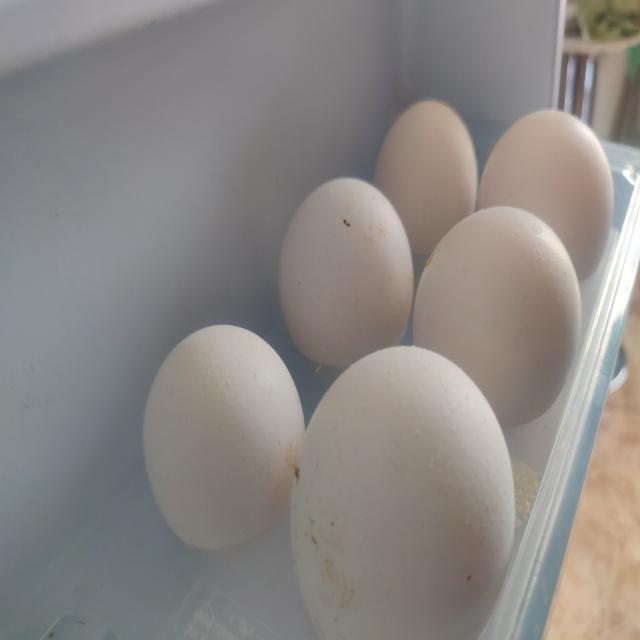Egg: (286, 344, 522, 640), (403, 203, 583, 451), (141, 325, 306, 554), (277, 178, 418, 372), (475, 109, 614, 295), (372, 100, 479, 276)
